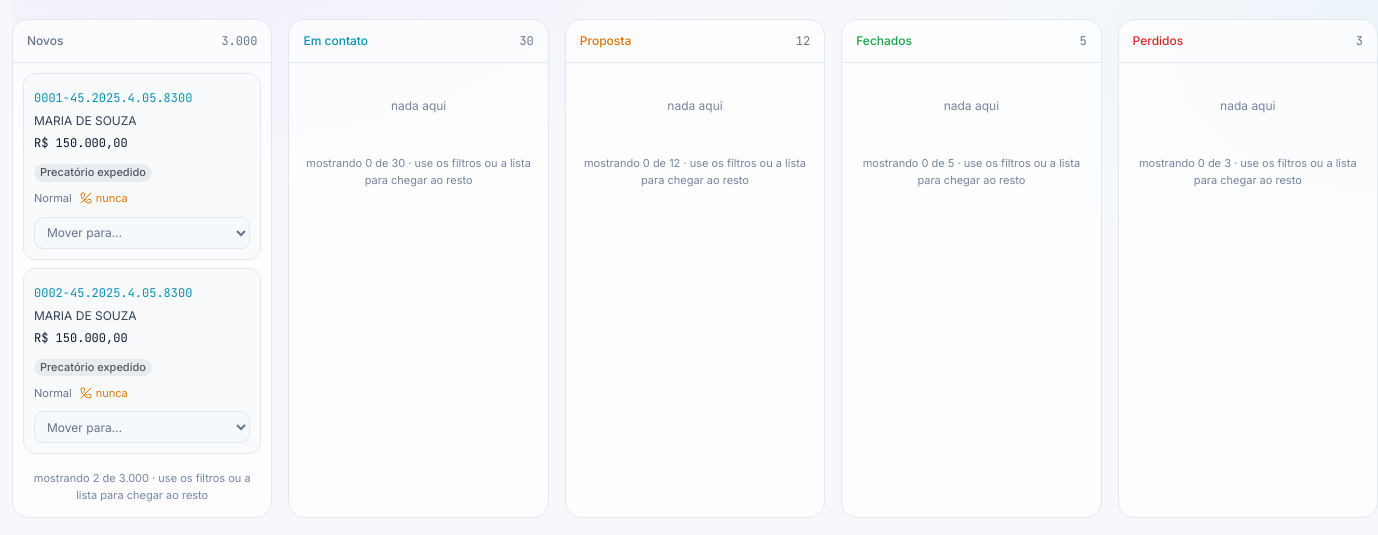
Test case: Quadro › 404 REMOVE o cartão em vez de devolvê-lo
Expected: the element labelled "Novos" is shown, [12,19,272,518]
Select "Em contato" in the dropdown named "Mover 0001-45" at (142, 232), box [34,216,250,248]
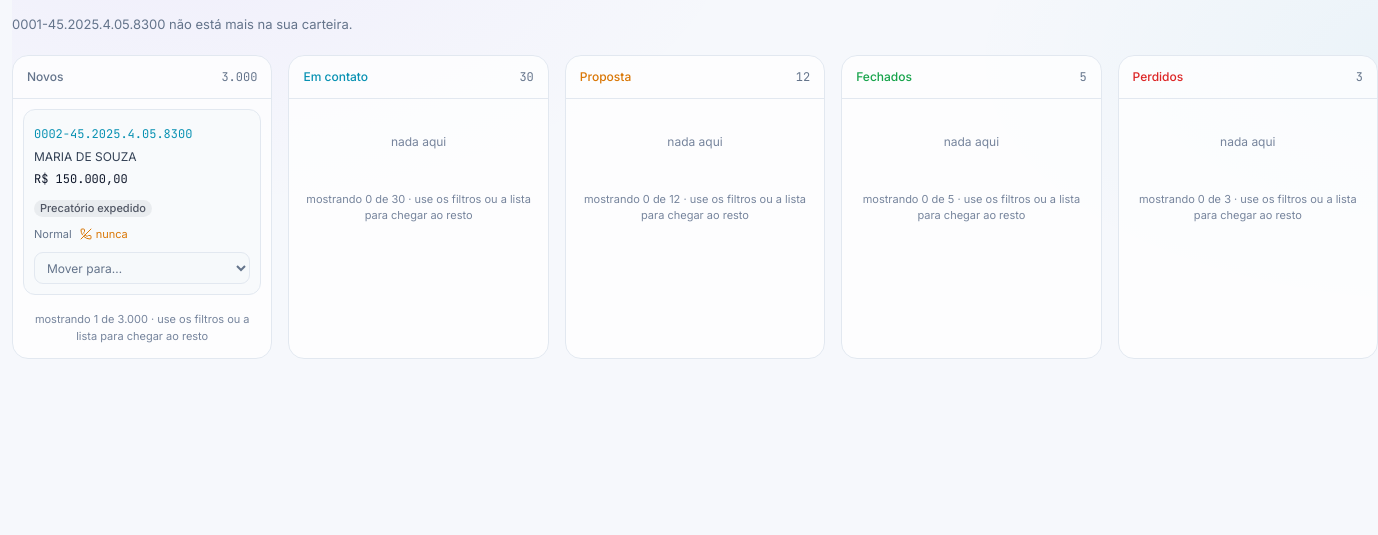
Now the text "0001-45.2025.4.05.8300 não está mais na sua carteira." is shown, box [12,16,352,32]
